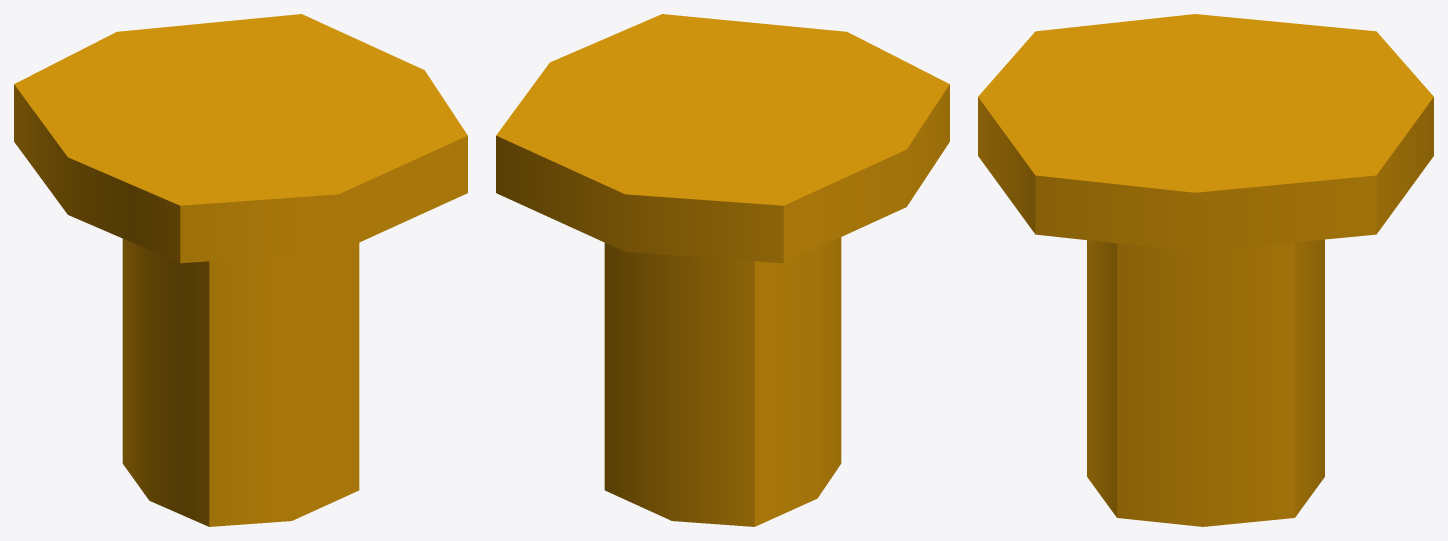
File: Metal_Spike.fbx
3 renders of one model, left to right at view 1: azimuth 30°, elevation 25°; view 2: azimuth 150°, elevation 25°; view 3: azimuth 270°, elevation 25°, orthographic. The views are drawn at different scales.
Parts seen in each view (by area): view 1: Metal_Spike; view 2: Metal_Spike; view 3: Metal_Spike.
Boxes of the visible parts, bbox=[...] form: Metal_Spike: bbox=[14, 14, 467, 526]; Metal_Spike: bbox=[496, 14, 949, 526]; Metal_Spike: bbox=[978, 14, 1433, 526].
Size of the model in its own units: 13.37 by 13.14 by 14.41.
